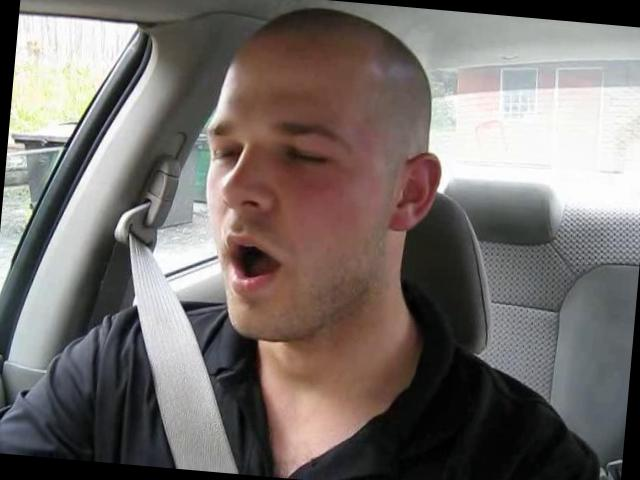eye_closed: (276, 139, 338, 181), (209, 140, 244, 171)
face: (189, 98, 384, 352)
mouth_open: (218, 229, 290, 296)
